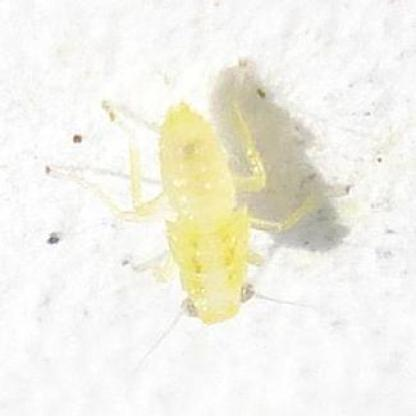green-leafhopper: (138, 95, 278, 323)
